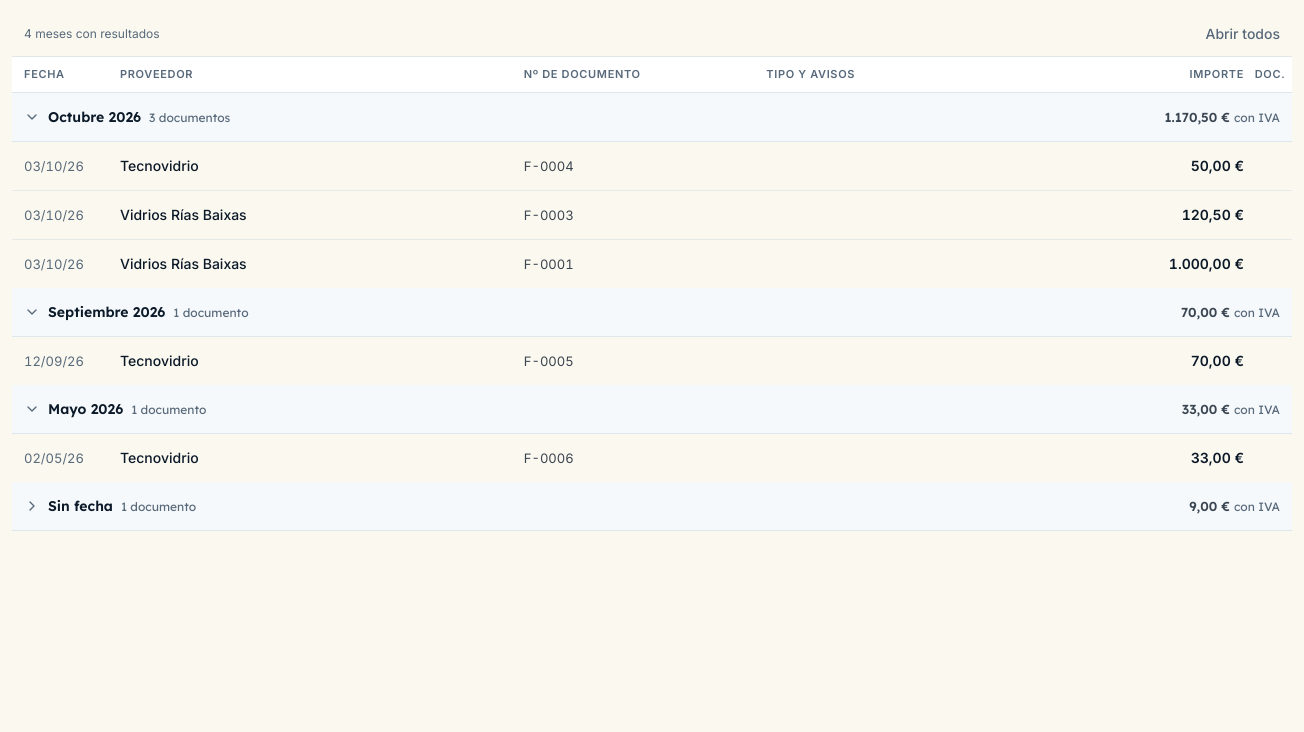
it: ListaDocumentos agrupada por mes › con filtros (chip Abonos o periodo): 3 meses más recientes abiertos y «Abrir todos»
This screenshot has width=1304, height=732.
Click the button "Abrir todos": {"x": 1243, "y": 34} [1194,12,1292,56]
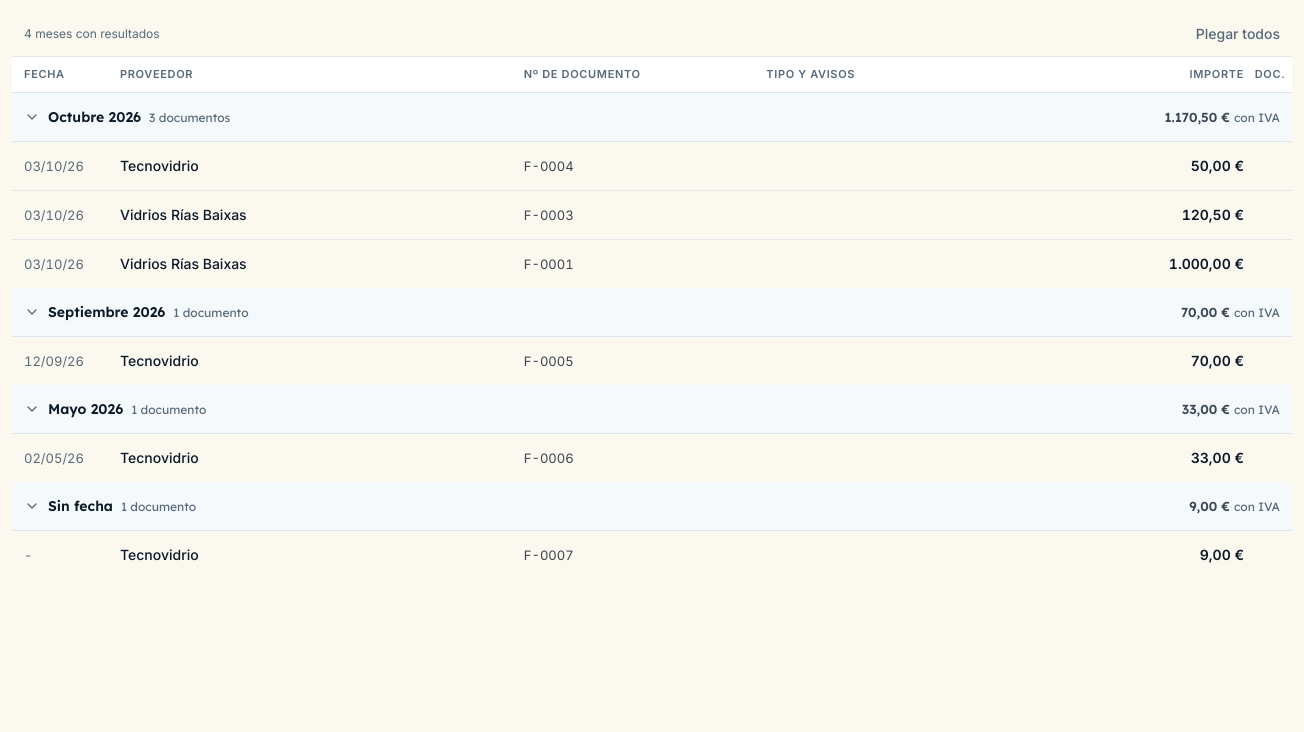
expect the button "Sin fecha 1 documento 9,00 € con IVA" is expanded: met, box [12,482,1292,530]
